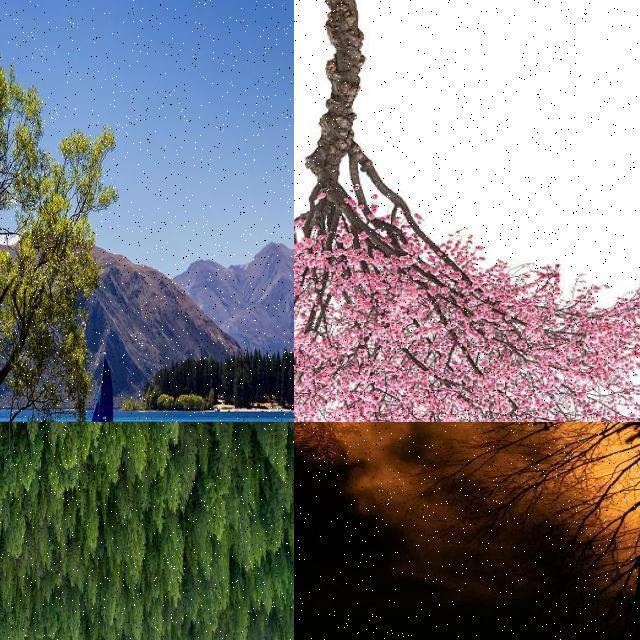tree: (294, 0, 640, 422), (0, 45, 172, 422), (492, 422, 640, 640), (491, 422, 602, 492), (351, 422, 439, 478), (438, 422, 522, 478), (294, 422, 348, 482), (294, 422, 360, 466), (212, 422, 260, 478), (161, 514, 187, 610), (3, 422, 35, 493), (258, 422, 294, 482), (0, 422, 28, 491), (258, 422, 290, 482), (294, 422, 330, 473), (1, 422, 20, 510), (140, 422, 172, 473), (20, 422, 48, 480), (84, 422, 120, 466), (158, 422, 190, 470), (103, 422, 127, 486), (202, 476, 226, 540), (179, 431, 197, 514), (260, 492, 284, 554), (123, 522, 145, 586), (104, 568, 126, 632), (0, 422, 20, 491), (1, 422, 16, 514), (0, 440, 16, 524), (127, 422, 149, 482), (0, 422, 18, 493), (0, 497, 18, 568), (0, 422, 18, 486), (0, 441, 12, 535), (234, 422, 262, 462), (201, 422, 231, 458), (239, 452, 257, 512), (49, 422, 77, 460), (0, 422, 12, 510), (7, 503, 25, 561), (149, 472, 167, 530), (84, 492, 100, 556), (59, 422, 79, 472), (80, 422, 104, 462), (166, 456, 182, 516), (258, 560, 274, 616), (125, 422, 151, 456), (195, 530, 212, 582), (104, 422, 125, 462), (114, 483, 134, 525), (127, 588, 143, 640), (232, 590, 248, 640), (104, 422, 126, 458), (36, 526, 54, 570), (55, 422, 79, 454), (0, 488, 12, 552), (125, 422, 144, 462), (44, 422, 64, 460), (66, 594, 82, 640), (0, 422, 14, 474), (0, 422, 12, 482), (0, 450, 12, 510), (173, 422, 193, 458), (19, 422, 41, 454), (0, 469, 12, 526), (82, 422, 102, 456), (33, 422, 57, 450), (0, 422, 12, 478), (148, 598, 164, 640), (235, 422, 252, 460), (0, 490, 8, 570), (184, 540, 200, 580), (0, 422, 12, 474), (0, 510, 8, 586), (68, 540, 80, 590), (179, 422, 195, 458), (218, 422, 234, 458), (46, 596, 59, 640), (0, 483, 10, 537), (87, 562, 99, 606), (198, 431, 210, 474), (1, 457, 8, 527), (0, 422, 14, 456), (51, 554, 64, 590), (66, 491, 78, 529), (0, 540, 8, 596), (194, 422, 210, 448), (270, 422, 286, 448), (0, 490, 6, 558), (128, 422, 148, 442), (286, 512, 294, 560), (0, 422, 12, 453), (1, 536, 8, 588), (0, 522, 8, 566), (1, 529, 8, 579), (282, 611, 294, 640), (195, 620, 212, 640), (17, 560, 27, 594), (34, 586, 44, 620), (5, 422, 19, 446), (1, 559, 8, 607), (1, 493, 8, 539), (1, 546, 8, 592), (1, 577, 8, 623), (0, 560, 4, 640), (210, 422, 222, 448), (42, 577, 54, 603), (1, 582, 8, 626), (155, 422, 177, 436), (1, 536, 8, 580), (0, 580, 8, 618), (1, 549, 8, 591), (0, 422, 8, 458), (0, 558, 6, 606), (1, 566, 8, 606), (39, 489, 47, 523), (1, 602, 8, 640), (194, 422, 206, 444), (1, 422, 8, 458), (1, 575, 8, 605), (87, 620, 97, 640), (1, 422, 8, 450), (0, 592, 6, 624), (0, 594, 4, 638), (0, 606, 6, 634), (56, 626, 68, 640), (14, 626, 26, 640), (0, 582, 4, 622), (0, 578, 4, 618), (0, 616, 6, 640), (0, 564, 4, 600), (1, 620, 8, 640), (0, 606, 4, 640), (0, 602, 4, 630), (0, 594, 4, 622), (0, 614, 4, 640), (0, 623, 6, 640), (0, 619, 4, 640)
